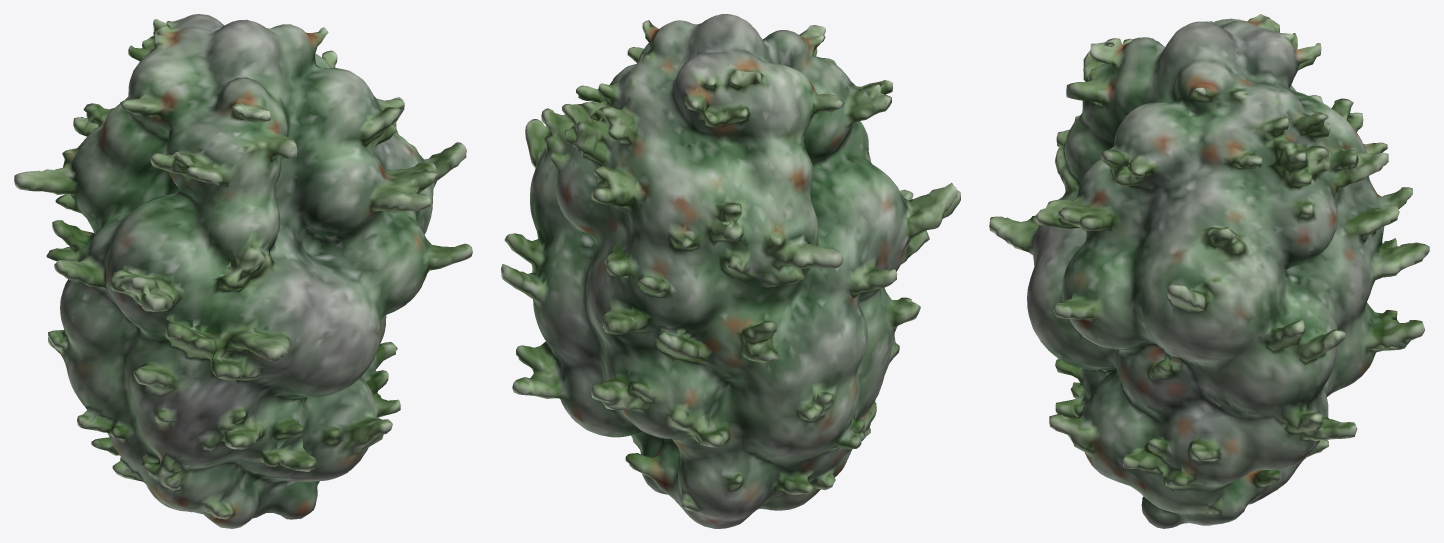
Rendered from nug_b24275a1.obj.
3 views of the same model, side by side, from view 1: azimuth 30°, elevation 25°; view 2: azimuth 150°, elevation 25°; view 3: azimuth 270°, elevation 25° (orthographic).
Bounding box in the file's own units: 1.97 × 2.4 × 1.95.
